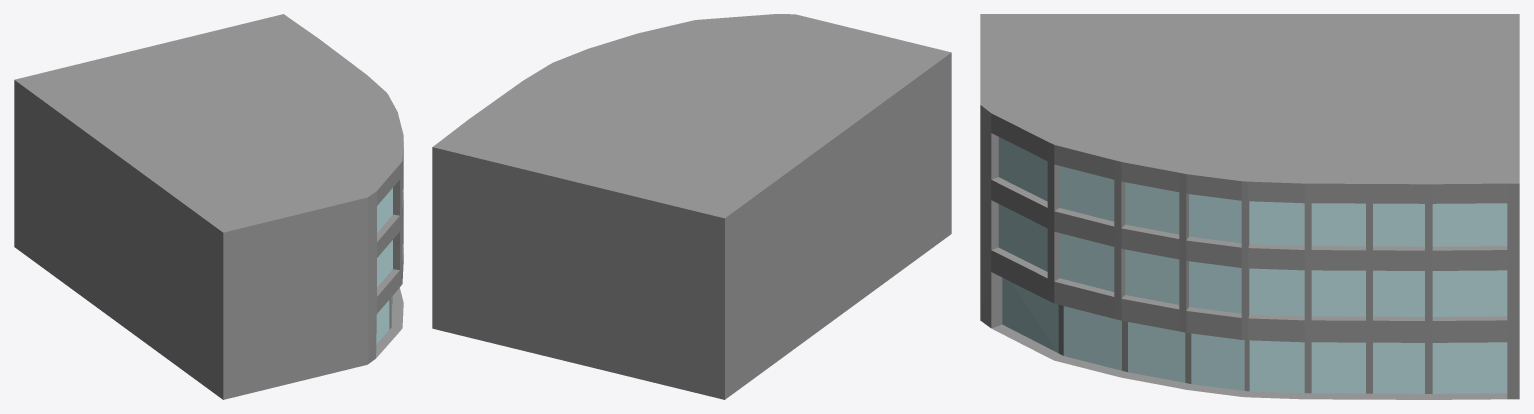
File: Haneji_test2.fbx
3 views of the same model, side by side, from view 1: azimuth 30°, elevation 25°; view 2: azimuth 150°, elevation 25°; view 3: azimuth 270°, elevation 25° (orthographic). The views are drawn at different scales.
Visible parts, largest first — view 1: niconico; view 2: niconico; view 3: niconico.
Boxes of the visible parts, x1,y1,x2,y2 form: niconico: [14, 14, 403, 399]; niconico: [432, 14, 951, 399]; niconico: [980, 14, 1519, 399].
Bounding box in the file's own units: 2539 × 1500 × 3397.
